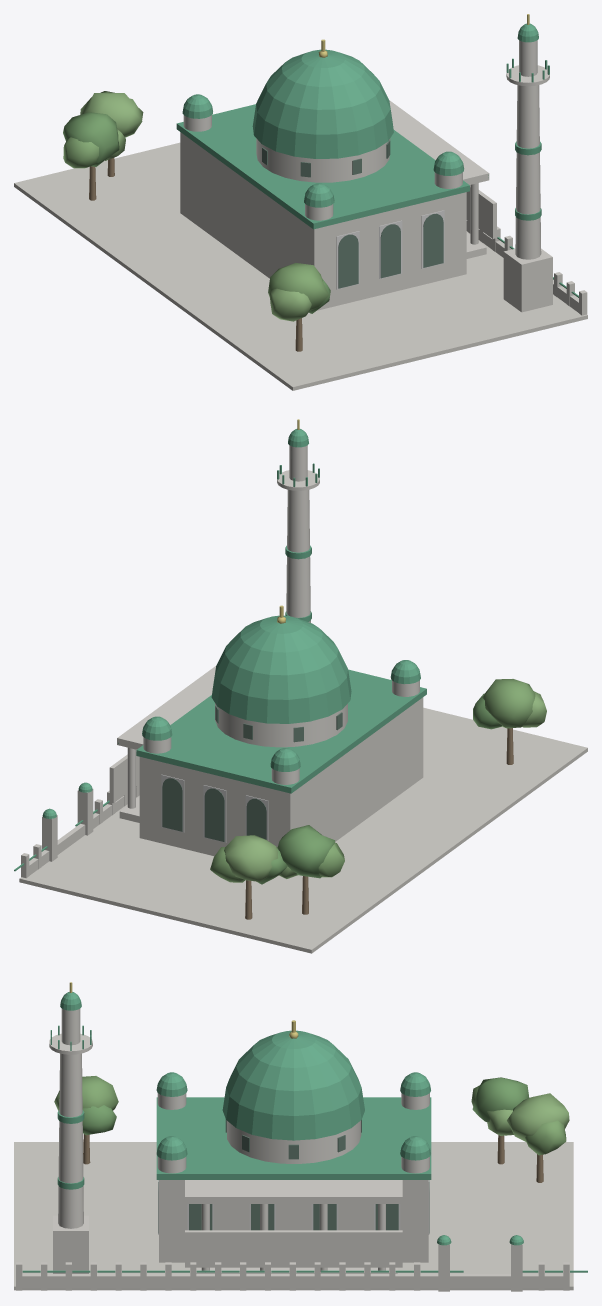
Rendered from lm_masjid.glb.
The picture shows the model from 3 angles, top to bottom: view 1: azimuth 30°, elevation 25°; view 2: azimuth 150°, elevation 25°; view 3: azimuth 270°, elevation 25°; orthographic projection.
Parts seen in each view (by area): view 1: main; view 2: main; view 3: main.
Boxes of the visible parts, x1,y1,x2,y2 form: main: [14, 14, 587, 390]; main: [14, 419, 587, 953]; main: [14, 982, 587, 1291].
Size of the model in its own units: 13.38 by 12.45 by 22.15.
